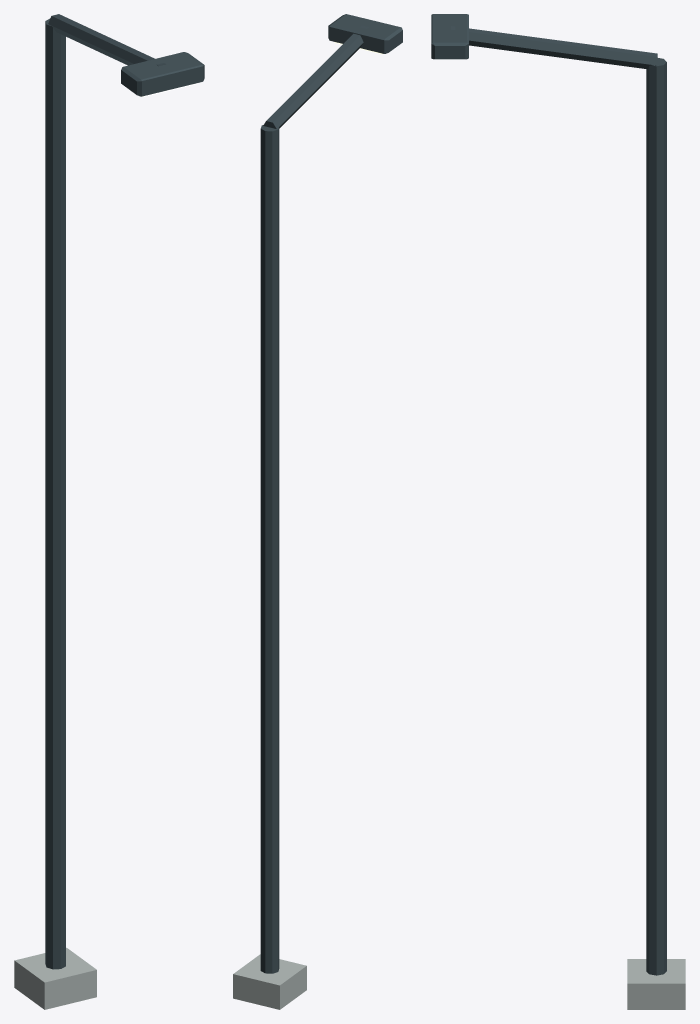
Rendered from Streetlight.glb.
The picture shows the model from 3 angles, left to right: view 1: azimuth 30°, elevation 25°; view 2: azimuth 150°, elevation 25°; view 3: azimuth 270°, elevation 25°; orthographic projection. The views are drawn at different scales.
Parts seen in each view (by area): view 1: Streetlight_V8_Roof_Graphite, Streetlight_V8_Viaduct_Concrete; view 2: Streetlight_V8_Roof_Graphite, Streetlight_V8_Viaduct_Concrete; view 3: Streetlight_V8_Roof_Graphite, Streetlight_V8_Viaduct_Concrete.
Boxes of the visible parts, box(x1,y1,x2,y2) form: Streetlight_V8_Roof_Graphite: box(45, 14, 204, 969); Streetlight_V8_Viaduct_Concrete: box(14, 947, 96, 1009); Streetlight_V8_Roof_Graphite: box(260, 14, 402, 973); Streetlight_V8_Viaduct_Concrete: box(233, 954, 306, 1009); Streetlight_V8_Roof_Graphite: box(431, 14, 666, 975); Streetlight_V8_Viaduct_Concrete: box(627, 959, 685, 1009).
Size of the model in its own units: 0.62 by 8.81 by 2.1.
